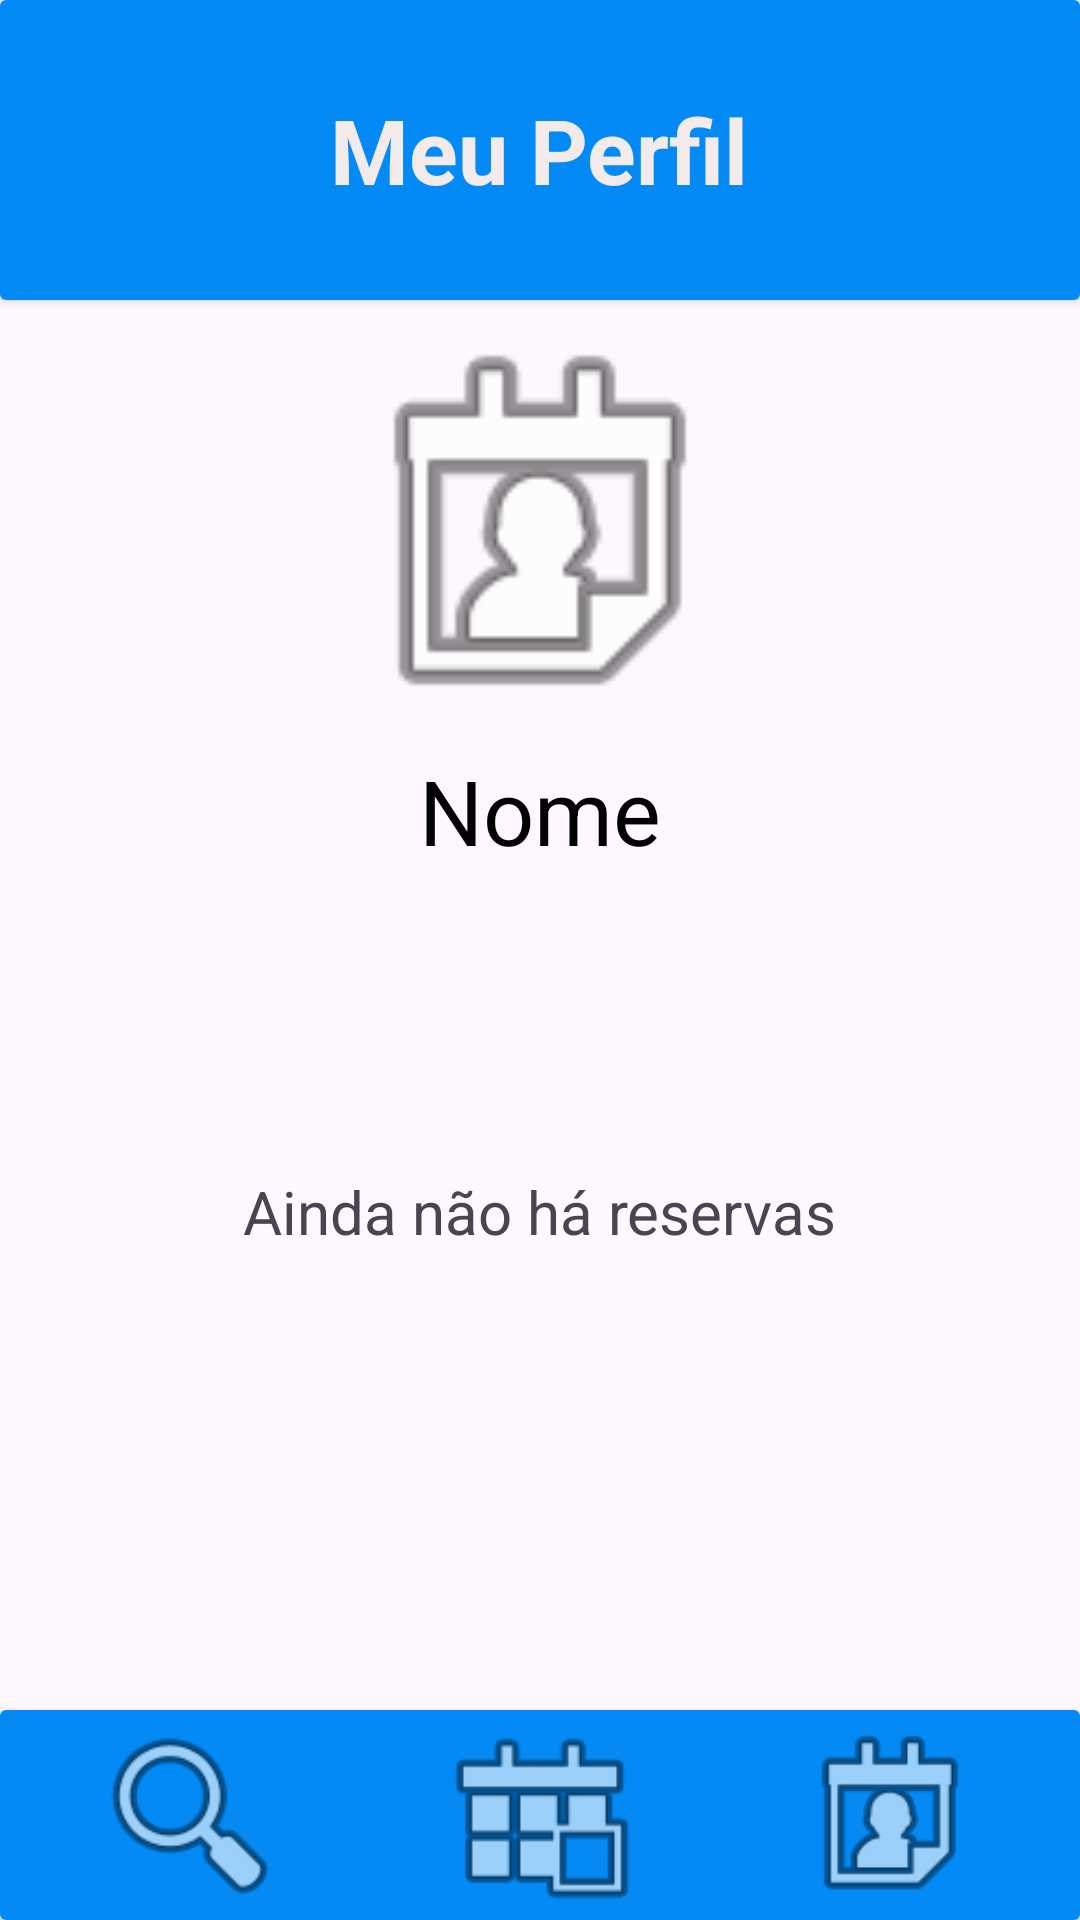

Icons on this 1080x1920 Android screen, each with its box as detection(x1, y1, x2, y2):
search: detection(112, 1738, 268, 1894)
today: detection(456, 1738, 628, 1898)
